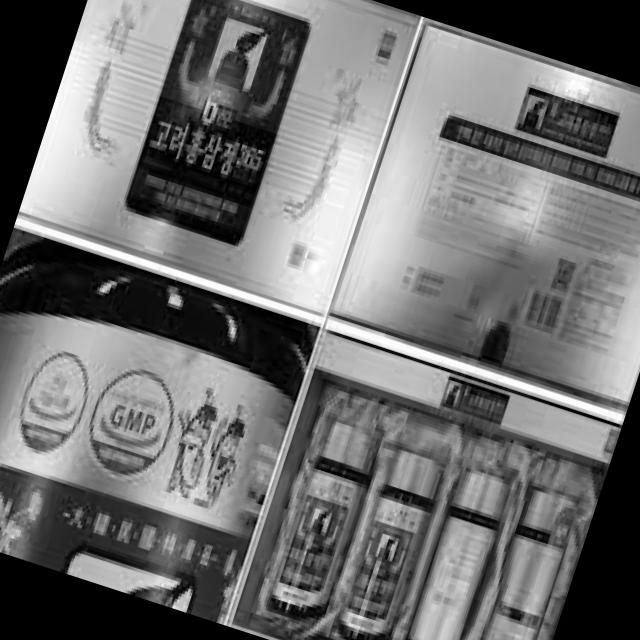GMP: (78, 359, 184, 488)
